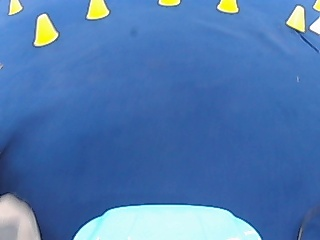cone: (0, 194, 38, 239), (32, 11, 59, 46), (286, 4, 306, 31), (85, 0, 108, 19), (217, 0, 237, 13), (8, 0, 22, 14)
